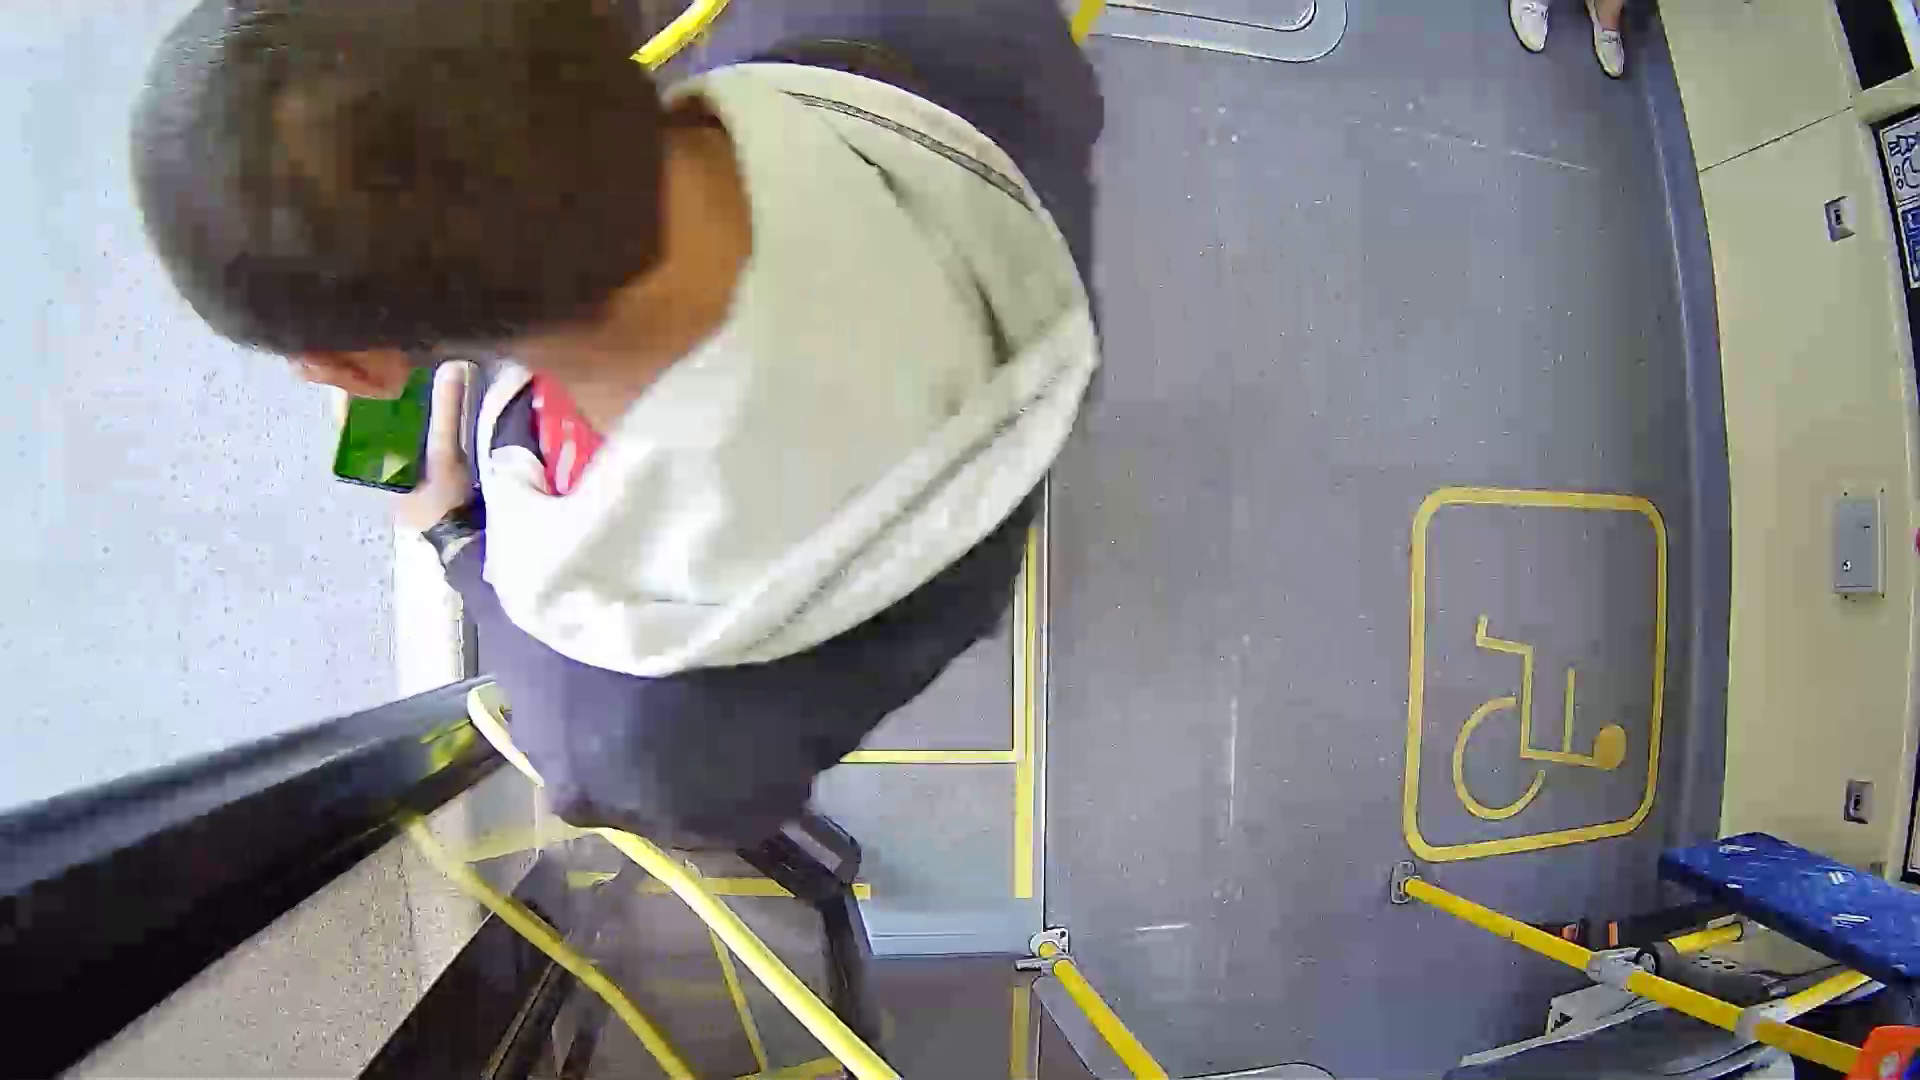person: (128, 27, 1148, 747)
